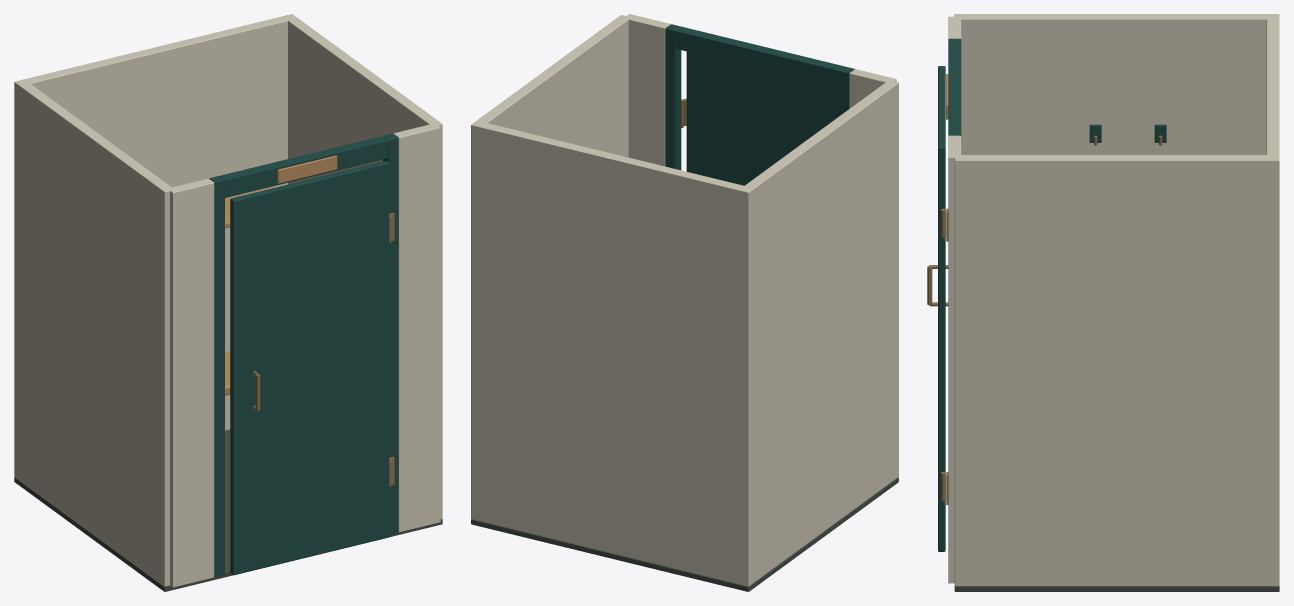
Rendered from edited.glb.
3 renders of one model, left to right at view 1: azimuth 30°, elevation 25°; view 2: azimuth 150°, elevation 25°; view 3: azimuth 270°, elevation 25°, orthographic. The views are drawn at different scales.
Visible parts, largest first — view 1: WALL_Left, DOOR_Leaf, WALL_Back, FRONT_Left, FRONT_Right, WALL_Right, FRAME_Left, FRAME_Right, FRAME_Header, FLOOR_Module, SIGN_Panel; view 2: WALL_Back, WALL_Left, DOOR_Leaf, WALL_Right, FRONT_Right, FRAME_Header, FLOOR_Module, FRAME_Right, FRONT_Left; view 3: WALL_Right, WALL_Left, WALL_Back, DOOR_Leaf, FRONT_Right, FLOOR_Module, FRAME_Header.
Boxes of the visible parts, left/top/right/bottom form: WALL_Left: left=14, top=82, right=172, bottom=586; DOOR_Leaf: left=230, top=161, right=389, bottom=575; WALL_Back: left=14, top=14, right=297, bottom=480; FRONT_Left: left=168, top=178, right=214, bottom=587; FRONT_Right: left=393, top=123, right=440, bottom=532; WALL_Right: left=283, top=14, right=442, bottom=519; FRAME_Left: left=209, top=176, right=224, bottom=577; FRAME_Right: left=383, top=133, right=398, bottom=534; FRAME_Header: left=219, top=136, right=388, bottom=197; FLOOR_Module: left=14, top=429, right=442, bottom=591; SIGN_Panel: left=277, top=155, right=337, bottom=183; WALL_Back: left=471, top=120, right=754, bottom=586; WALL_Left: left=739, top=81, right=898, bottom=582; DOOR_Leaf: left=686, top=51, right=838, bottom=185; WALL_Right: left=471, top=15, right=629, bottom=466; FRONT_Right: left=624, top=14, right=670, bottom=166; FRAME_Header: left=675, top=26, right=844, bottom=88; FLOOR_Module: left=471, top=477, right=898, bottom=591; FRAME_Right: left=665, top=24, right=681, bottom=170; FRONT_Left: left=849, top=69, right=896, bottom=108; WALL_Right: left=954, top=155, right=1279, bottom=586; WALL_Left: left=954, top=14, right=1279, bottom=154; WALL_Back: left=1266, top=14, right=1279, bottom=586; DOOR_Leaf: left=938, top=66, right=945, bottom=551; FRONT_Right: left=948, top=135, right=961, bottom=583; FLOOR_Module: left=954, top=586, right=1279, bottom=591; FRAME_Header: left=948, top=44, right=961, bottom=130.
Bounding box in the file's own units: 1.6 × 2.2 × 1.63.
